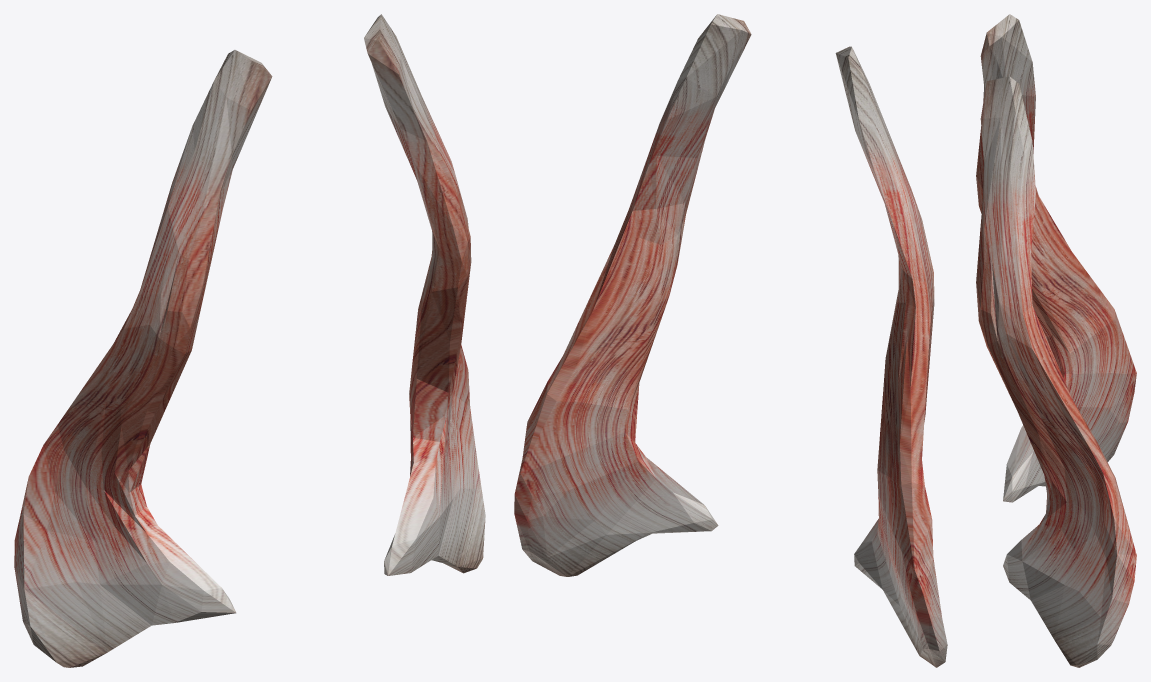
Rendered from Levator_LAbii_Superioris_Alaque_Nasi.obj.
3 views of the same model, side by side, from view 1: azimuth 30°, elevation 25°; view 2: azimuth 150°, elevation 25°; view 3: azimuth 270°, elevation 25° (orthographic). The views are drawn at different scales.
Parts seen in each view (by area): view 1: Musculos_Cabeza_1:Levator_Labii_Superioris_Alaque_Nasi1; view 2: Musculos_Cabeza_1:Levator_Labii_Superioris_Alaque_Nasi1; view 3: Musculos_Cabeza_1:Levator_Labii_Superioris_Alaque_Nasi1.
Part boxes in pixels (x1=…): Musculos_Cabeza_1:Levator_Labii_Superioris_Alaque_Nasi1: x1=14, y1=14, x2=485, y2=667; Musculos_Cabeza_1:Levator_Labii_Superioris_Alaque_Nasi1: x1=514, y1=14, x2=947, y2=667; Musculos_Cabeza_1:Levator_Labii_Superioris_Alaque_Nasi1: x1=976, y1=14, x2=1136, y2=667.
Bounding box in the file's own units: 0.1847 × 0.2383 × 0.0648.
1 material, 1 textured.
